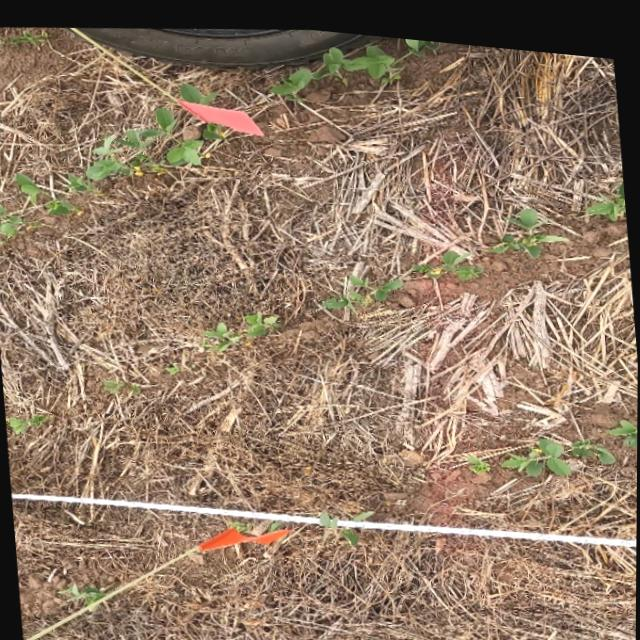soy_plant: (271, 30, 435, 95), (88, 104, 175, 174), (507, 426, 614, 464), (411, 216, 482, 271), (490, 196, 567, 246), (201, 306, 278, 347), (321, 267, 402, 304), (161, 120, 223, 163), (586, 171, 625, 208), (320, 506, 358, 537), (5, 411, 49, 434), (60, 582, 106, 602), (178, 80, 216, 100), (15, 172, 41, 201), (101, 374, 140, 392), (0, 205, 21, 235), (613, 407, 638, 432), (466, 444, 489, 463), (69, 173, 96, 189), (44, 198, 72, 212), (234, 517, 252, 526), (351, 505, 371, 513), (269, 517, 281, 524)
